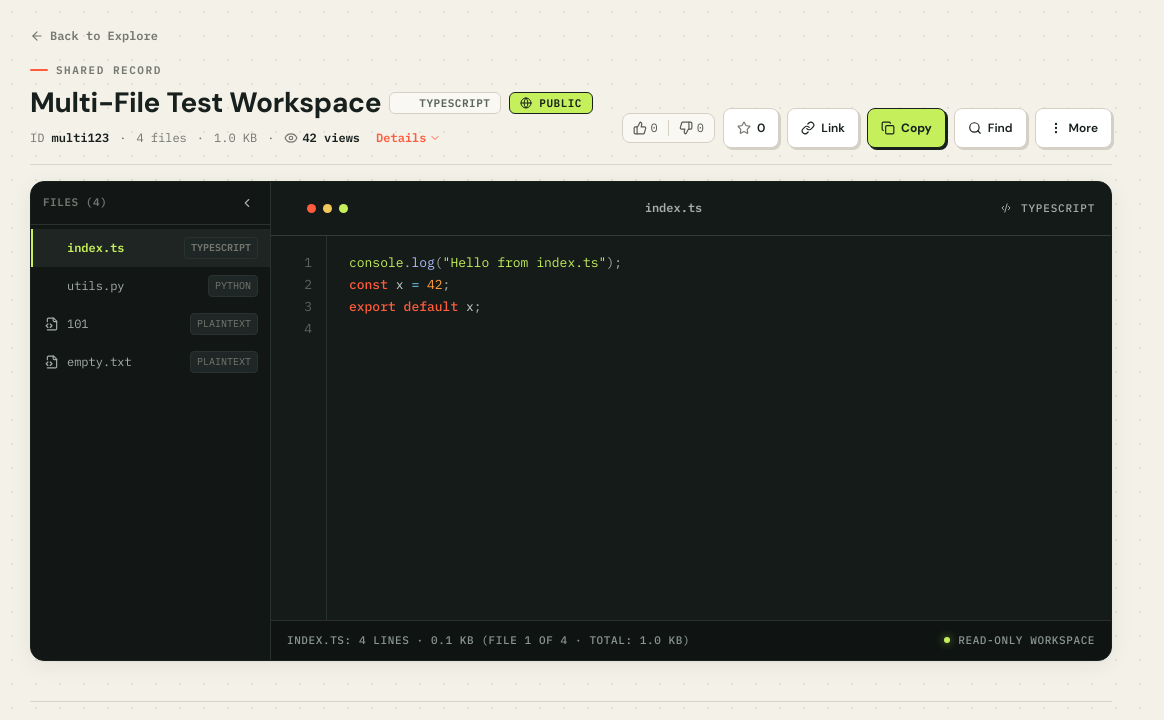
Test: Multi-File Workspace (Developer Handoff Experience) › FE-WS-SRCH-02: Pressing Escape closes the search toolbar and clears query
Expected: the heading "Multi-File Test Workspace" is shown, [30, 86, 381, 120]
Click the button "Find" at (990, 128), box [954, 108, 1027, 148]
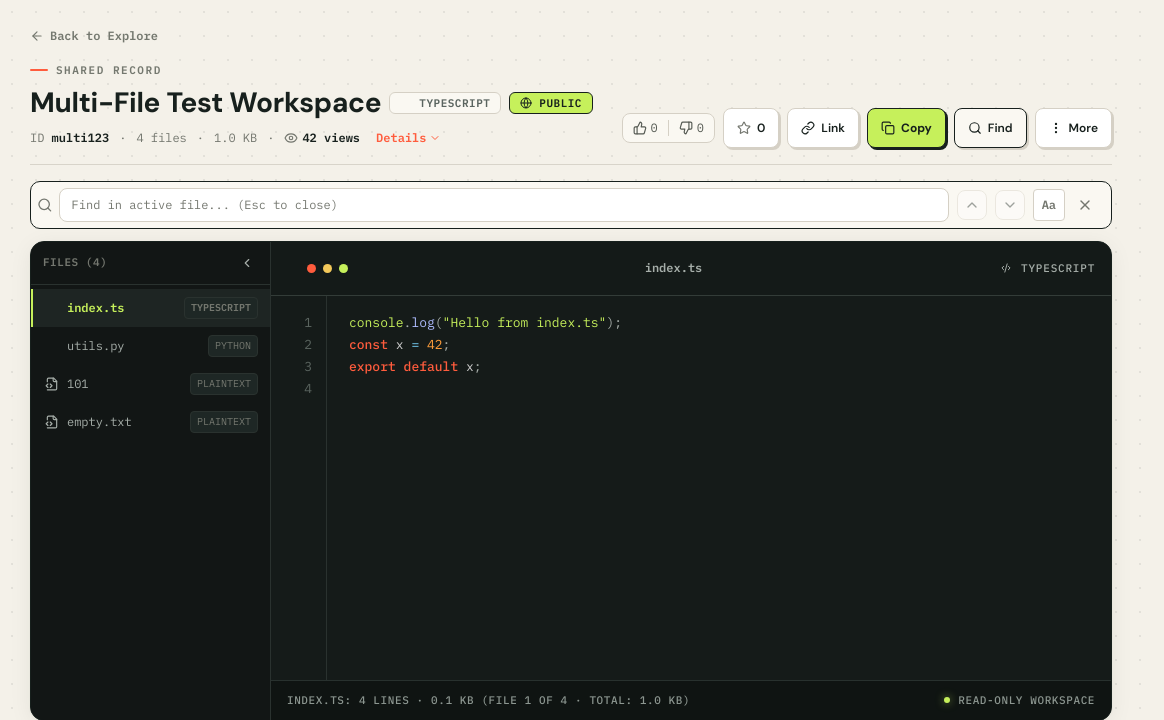
Type "Hello" into the field with placeholder "Find in active file... (Esc to close)" at (504, 205), box [59, 188, 949, 222]
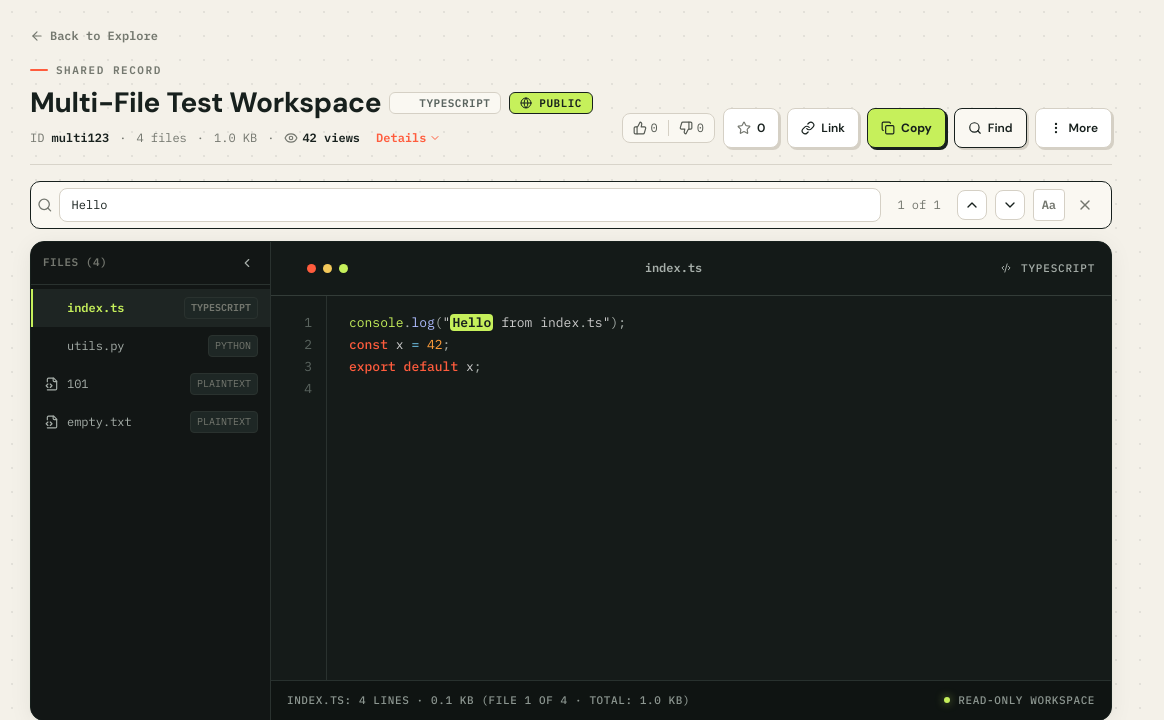
Expected: the text "Hello" is shown, [450, 314, 493, 331]
// Fire Escape keydown
Press Escape in the field with placeholder "Find in active file... (Esc to close)", box [58, 188, 881, 222]
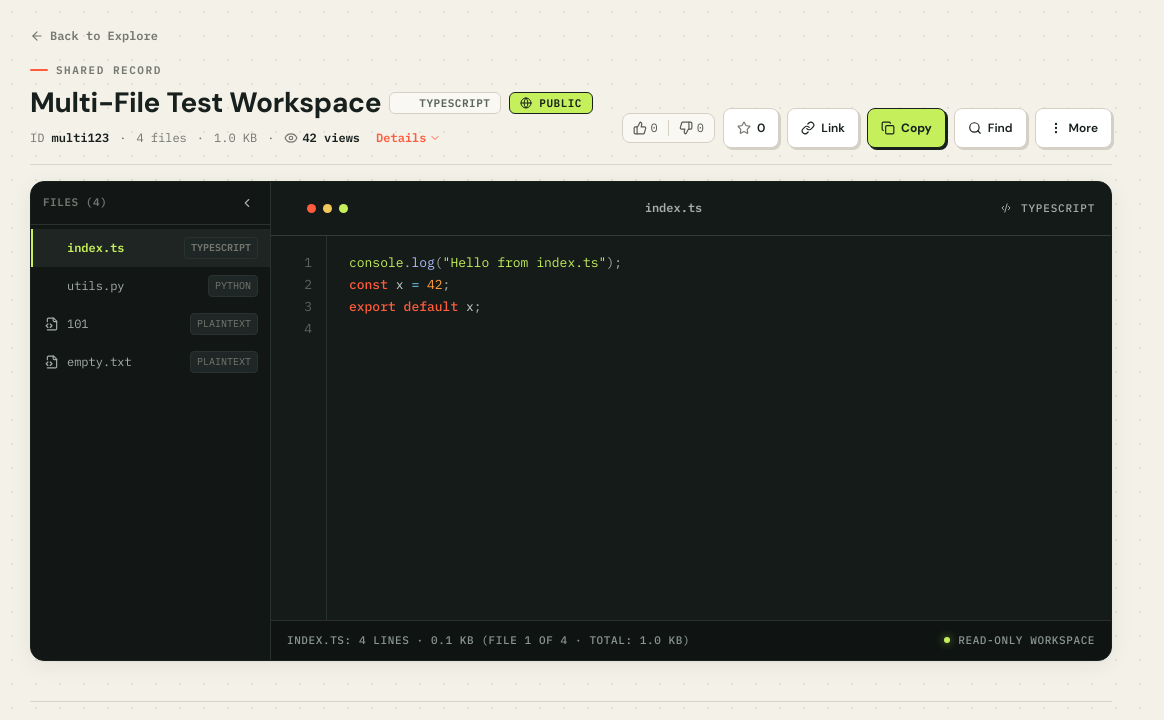
Expected: the field with placeholder "find in active file" is not shown
Expected: the text with class "search-match" is gone
